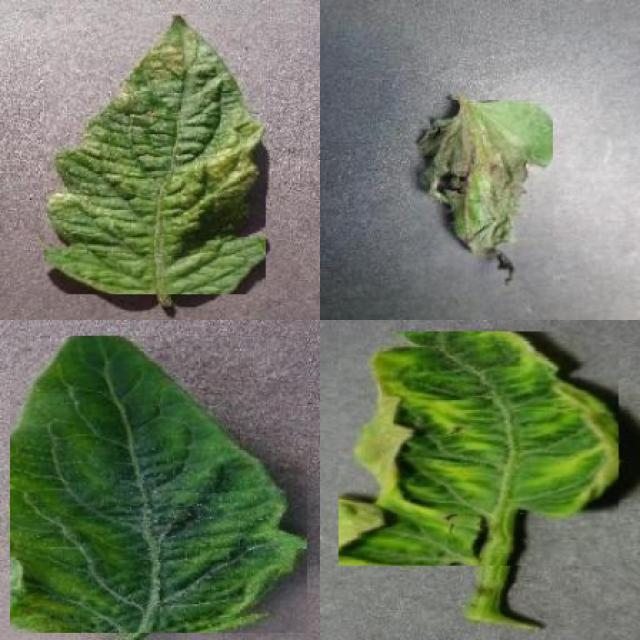Late Blight: (410, 100, 553, 287)
Spider Mites: (44, 15, 266, 294)
Yellow Leaf Curl Virus: (10, 336, 307, 634), (340, 332, 620, 565)
